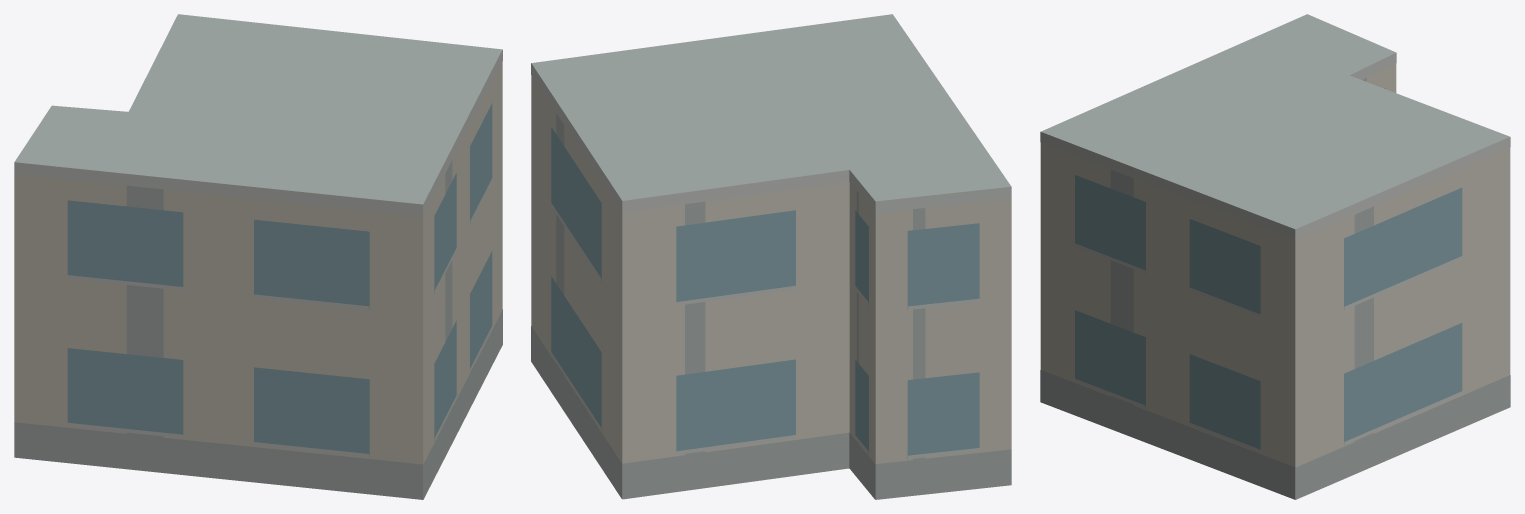
Rendered from survey-upis-32994828.glb.
3 views of the same model, side by side, from view 1: azimuth 30°, elevation 25°; view 2: azimuth 150°, elevation 25°; view 3: azimuth 270°, elevation 25° (orthographic). The views are drawn at different scales.
Visible parts, largest first — view 1: survey-upis-32994828.tmp; view 2: survey-upis-32994828.tmp; view 3: survey-upis-32994828.tmp.
Boxes of the visible parts, x1,y1,x2,y2 form: survey-upis-32994828.tmp: (14, 14, 502, 499); survey-upis-32994828.tmp: (531, 14, 1011, 499); survey-upis-32994828.tmp: (1040, 14, 1510, 499).
Bounding box in the file's own units: 10.42 × 6.1 × 9.61.
